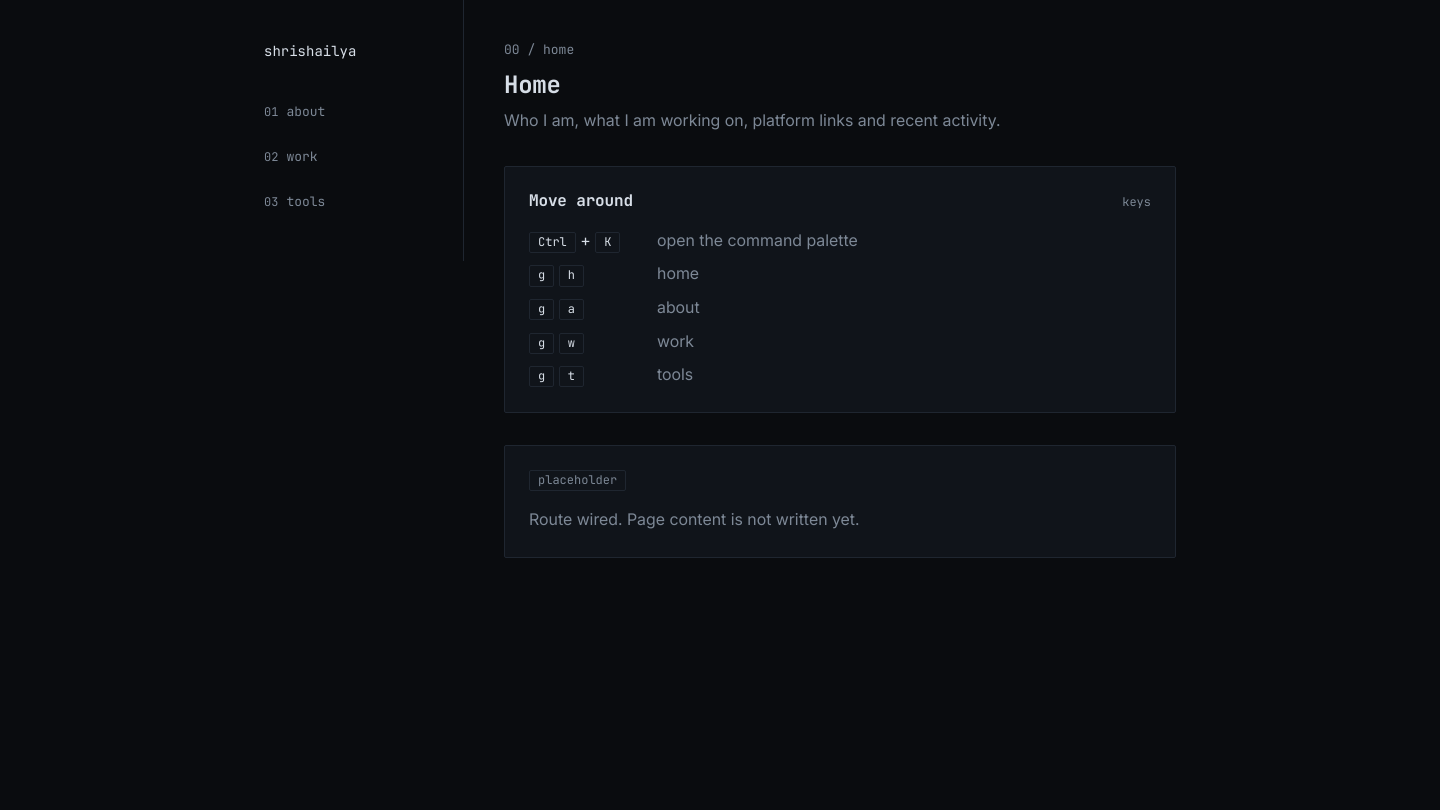
Test: command palette › does not expose private routes when searching
The image size is (1440, 810).
Press k
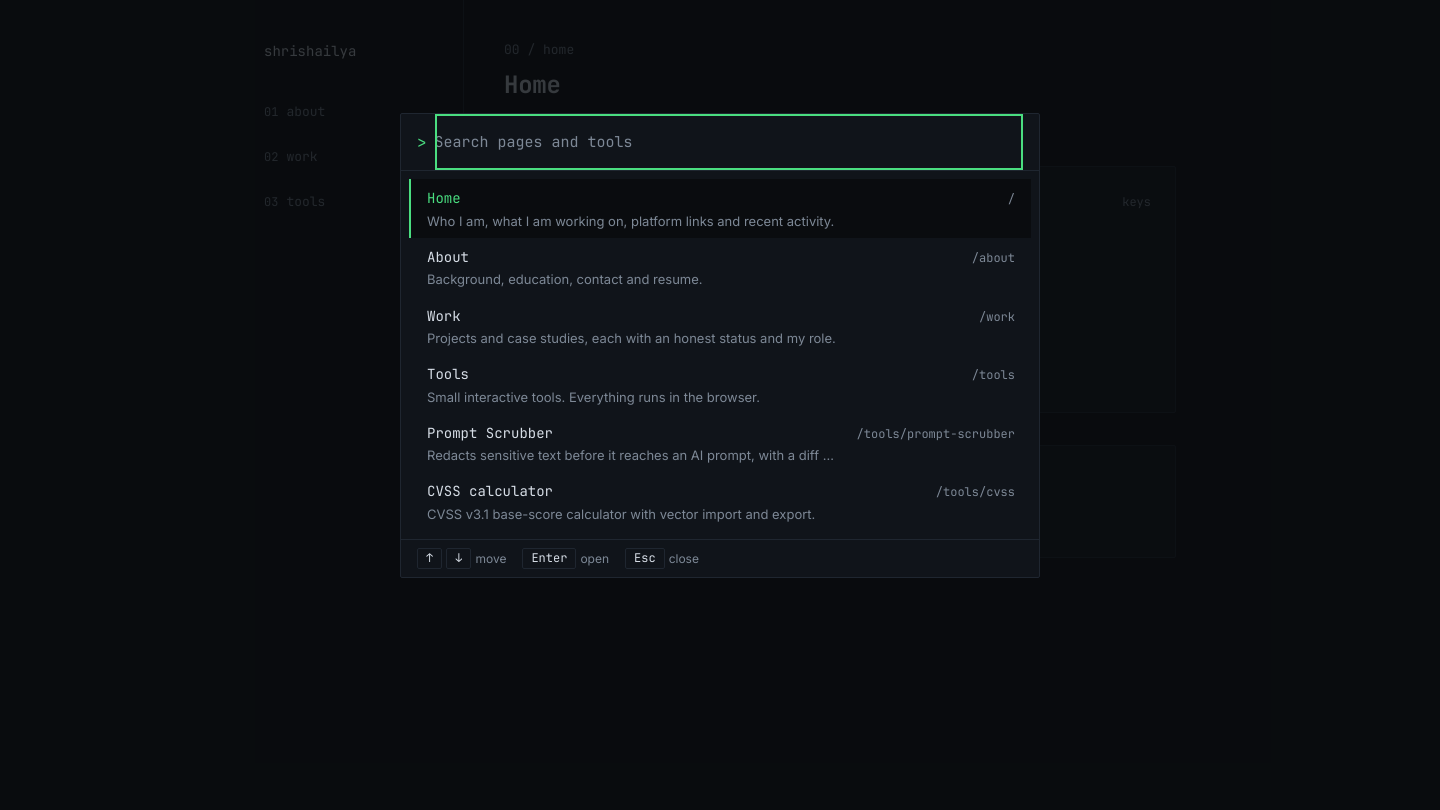
In the dropdown labelled "Search pages and tools": (729, 142) top-left (435, 114), bottom-right (1023, 170), type "ops"
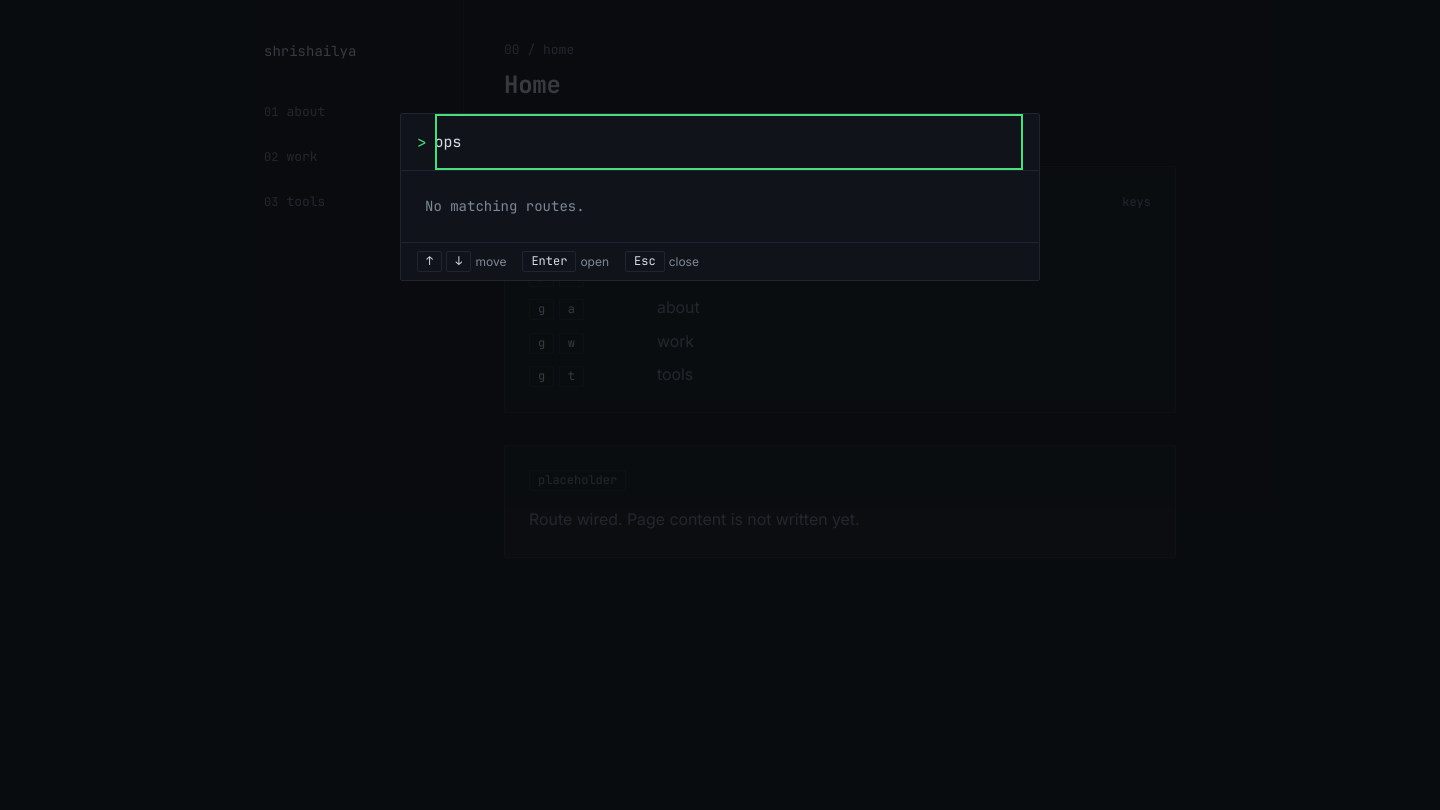
Expected: the text "No matching routes." is shown, top-left (425, 197), bottom-right (585, 215)
